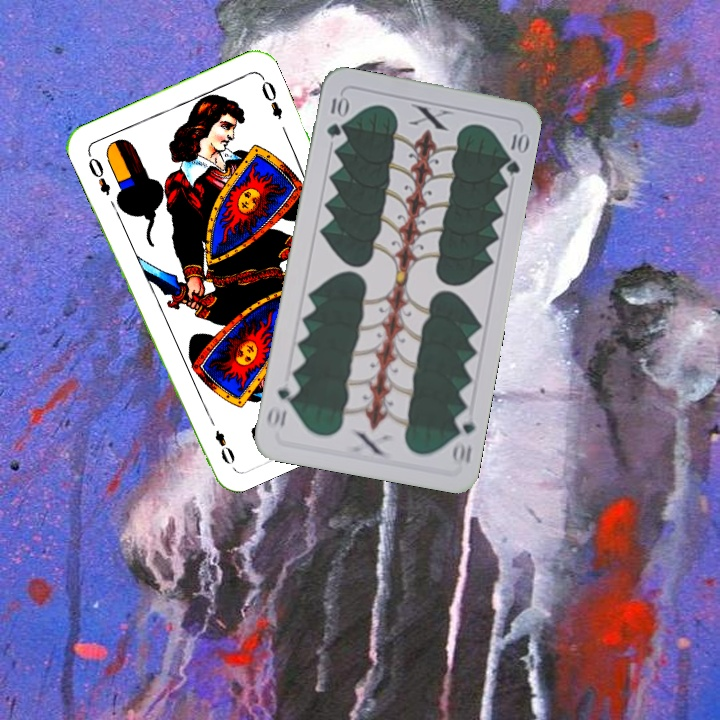EO: (83, 149, 113, 198)
G10: (448, 408, 478, 468), (322, 91, 349, 140)
